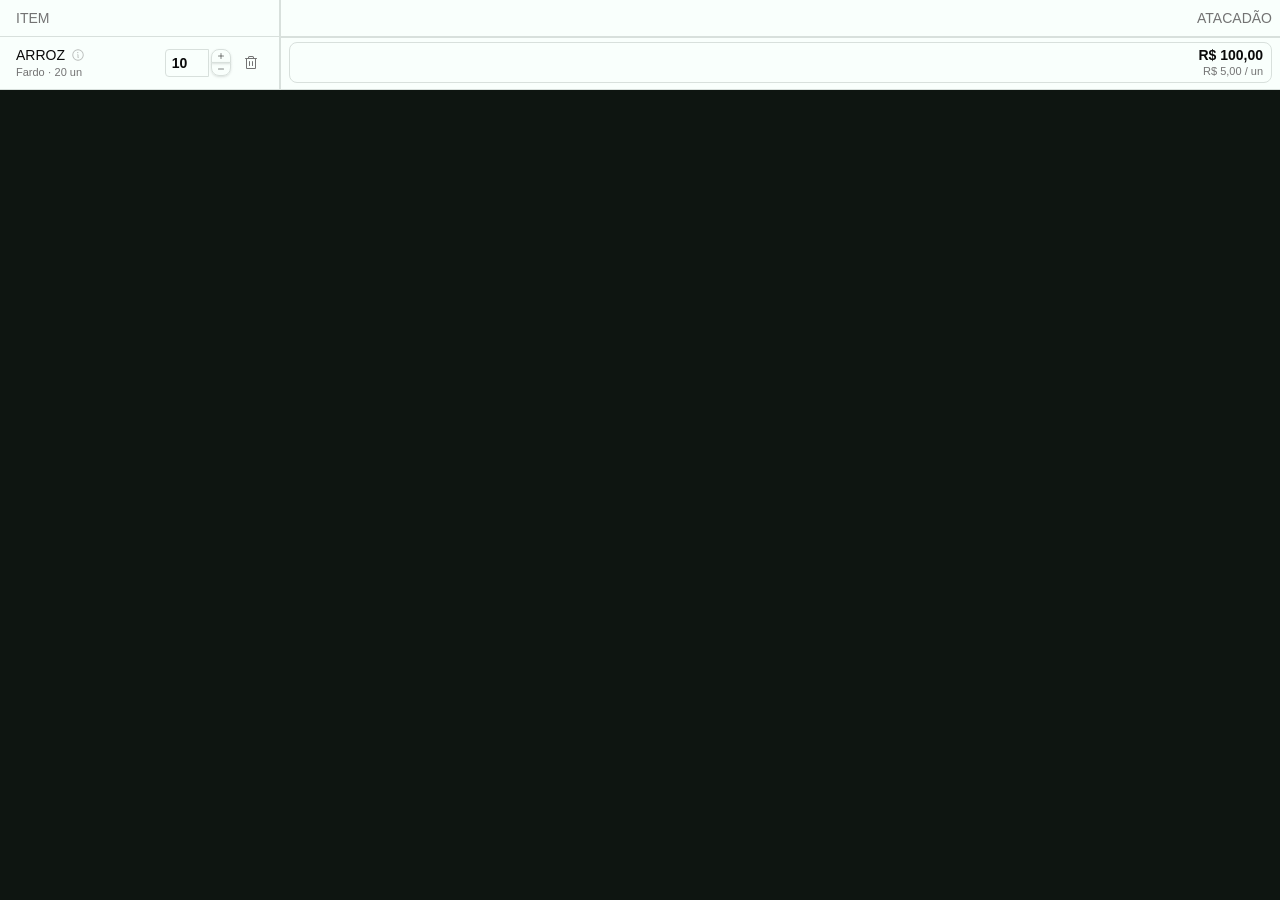
Test case: erro ao remover exibe ApiError.message e mantém o diálogo aberto
This screenshot has width=1280, height=900.
Expected: the text "Arroz" is shown, [16, 45, 65, 65]
Click the button named "Remover item Arroz".
click(251, 63)  # box [239, 51, 263, 75]
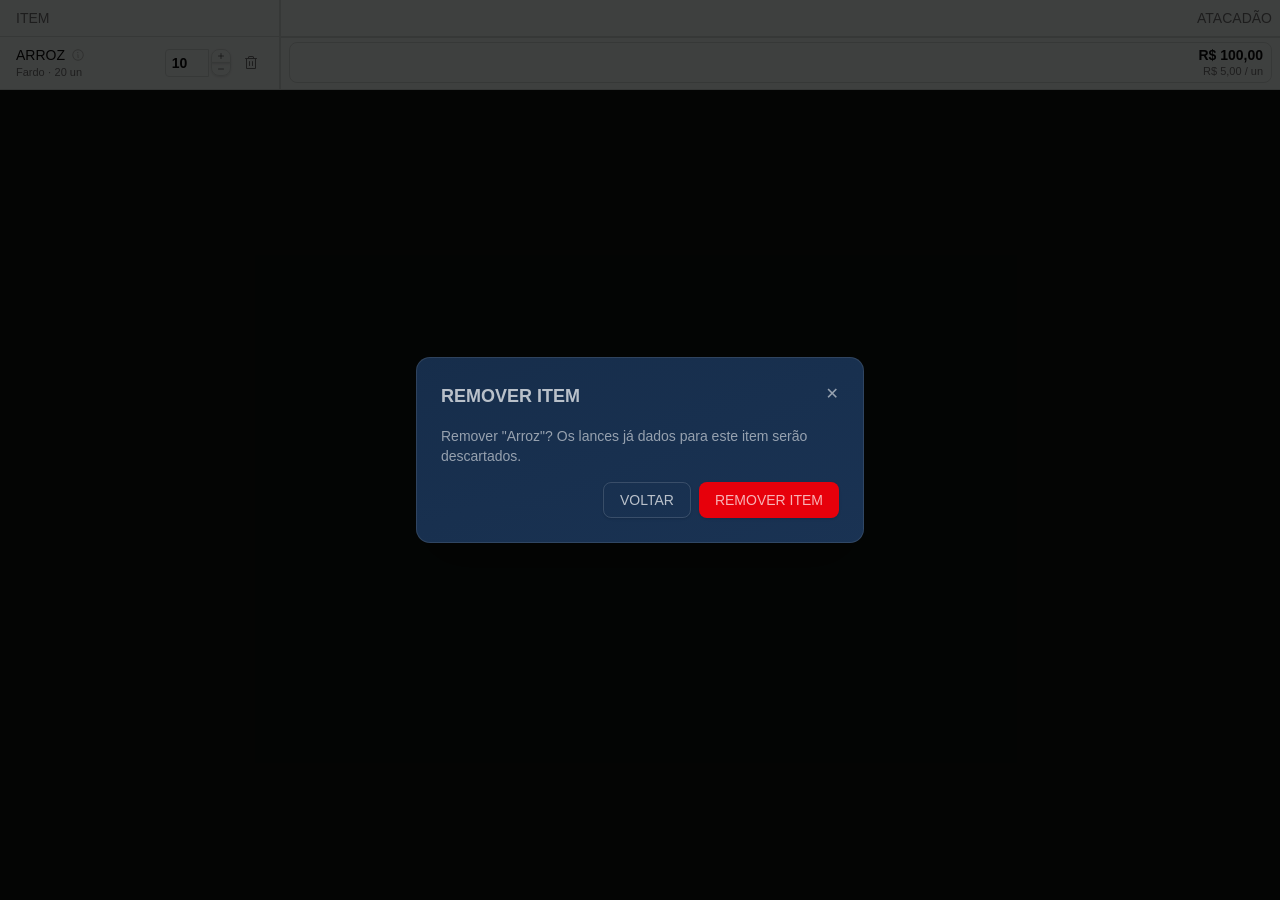
Click the button "Remover item".
click(769, 500)  # box [699, 482, 839, 518]
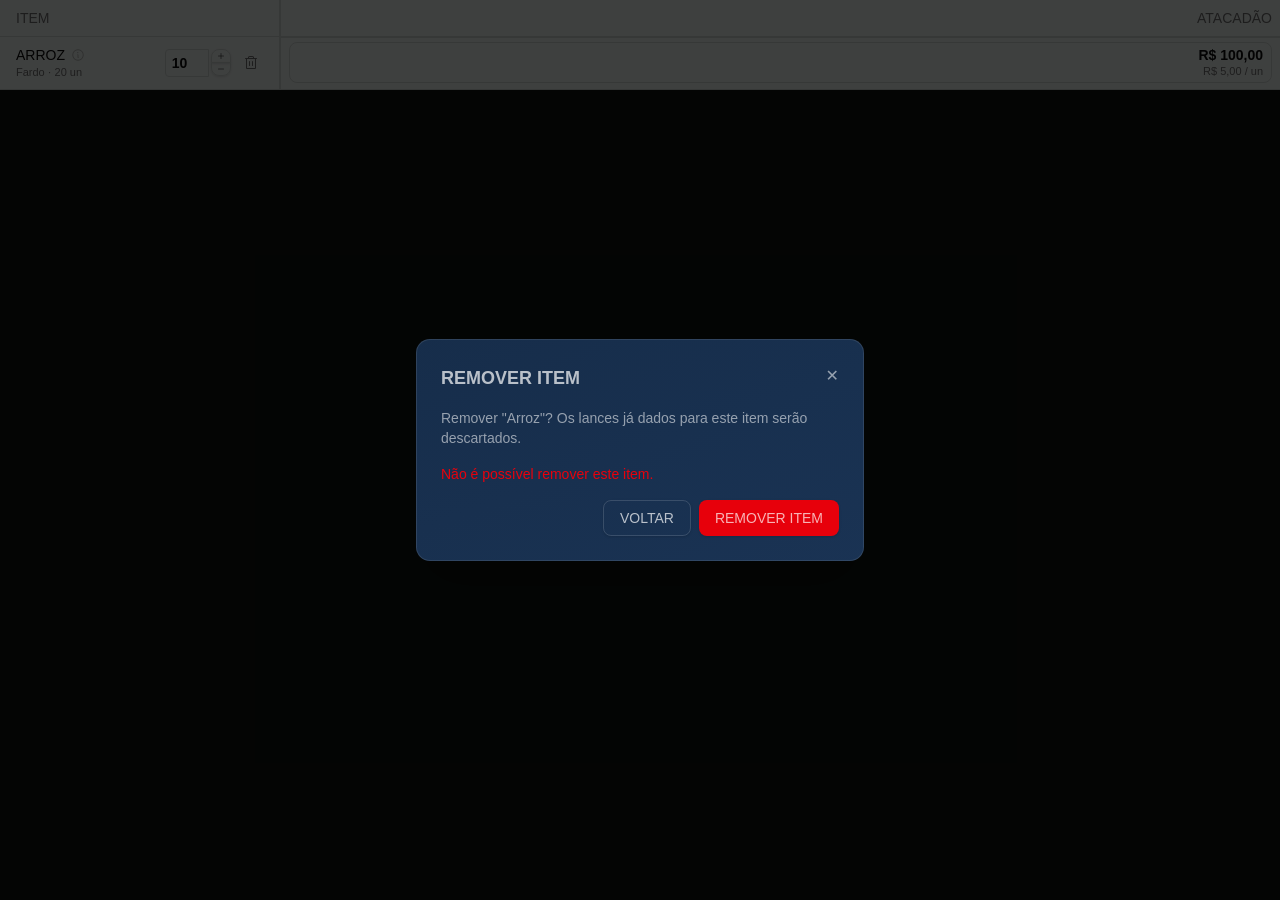
Expected: the text "Arroz" is shown, [16, 45, 65, 65]
Result: the message reads "Não é possível remover este item." at [441, 466, 653, 482]
